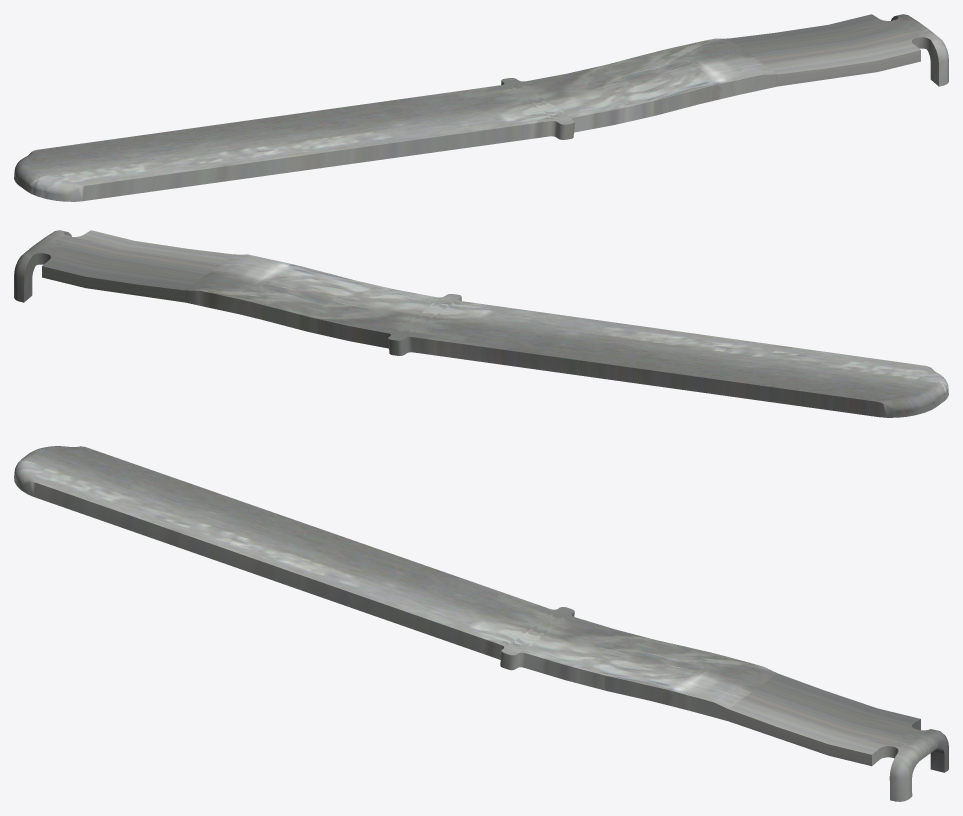
The model's file is Flat_Spring.dae.
3 renders of one model, top to bottom at view 1: azimuth 30°, elevation 25°; view 2: azimuth 150°, elevation 25°; view 3: azimuth 330°, elevation 25°, orthographic.
Parts seen in each view (by area): view 1: Flat_Spring; view 2: Flat_Spring; view 3: Flat_Spring.
Boxes of the visible parts, x1=… form: Flat_Spring: x1=14, y1=14, x2=948, y2=201; Flat_Spring: x1=14, y1=230, x2=948, y2=417; Flat_Spring: x1=14, y1=446, x2=948, y2=801.
Bounding box in the file's own units: 0.0778 × 0.00929 × 0.0092.
Materials: 1 (1 with a texture image).
